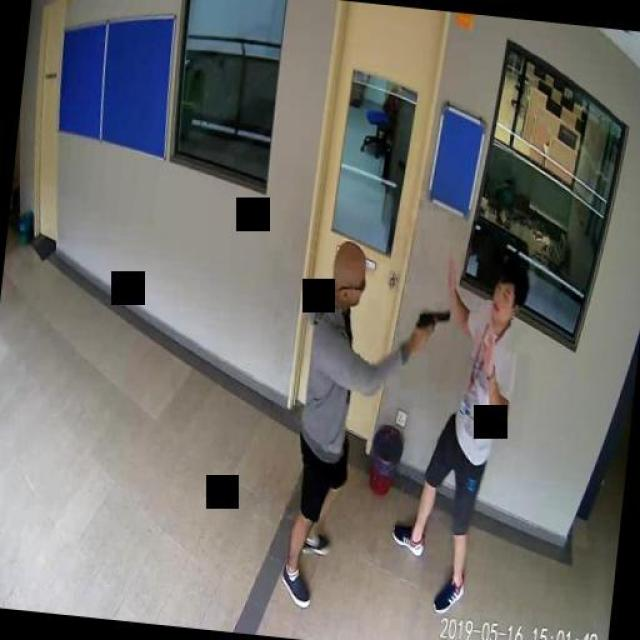gun: (414, 306, 450, 348)
